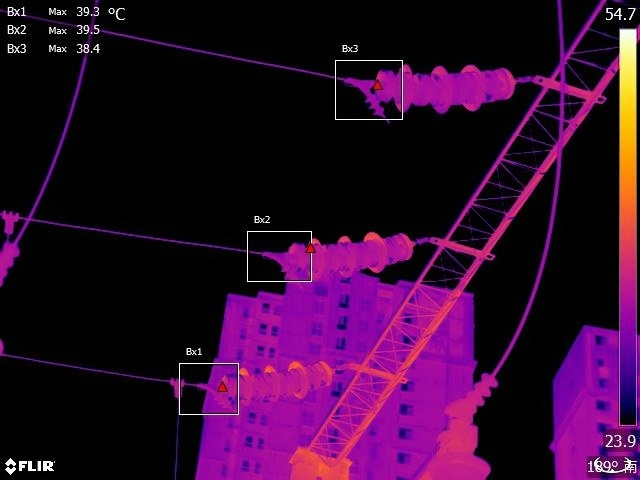clamp: (1, 202, 22, 242), (166, 370, 185, 401)
insulator: (271, 226, 418, 288), (369, 60, 520, 117), (223, 352, 338, 406)
tube: (355, 85, 391, 122), (205, 387, 237, 417), (272, 254, 299, 287)
